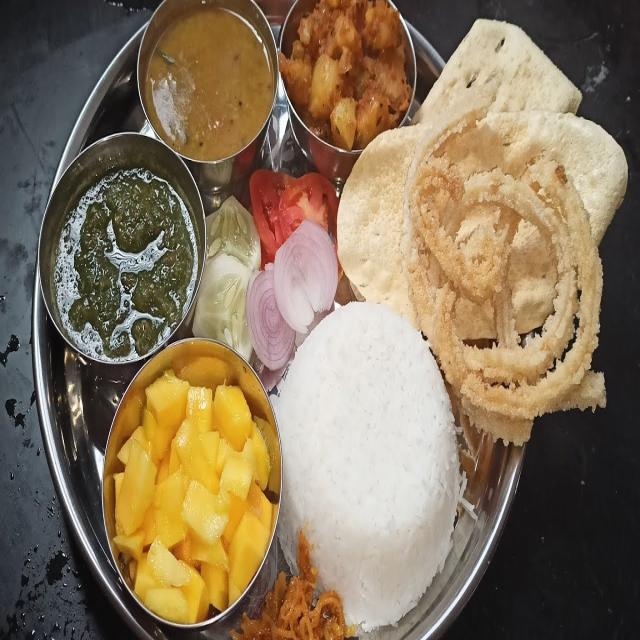veg meals: (29, 0, 632, 640)
